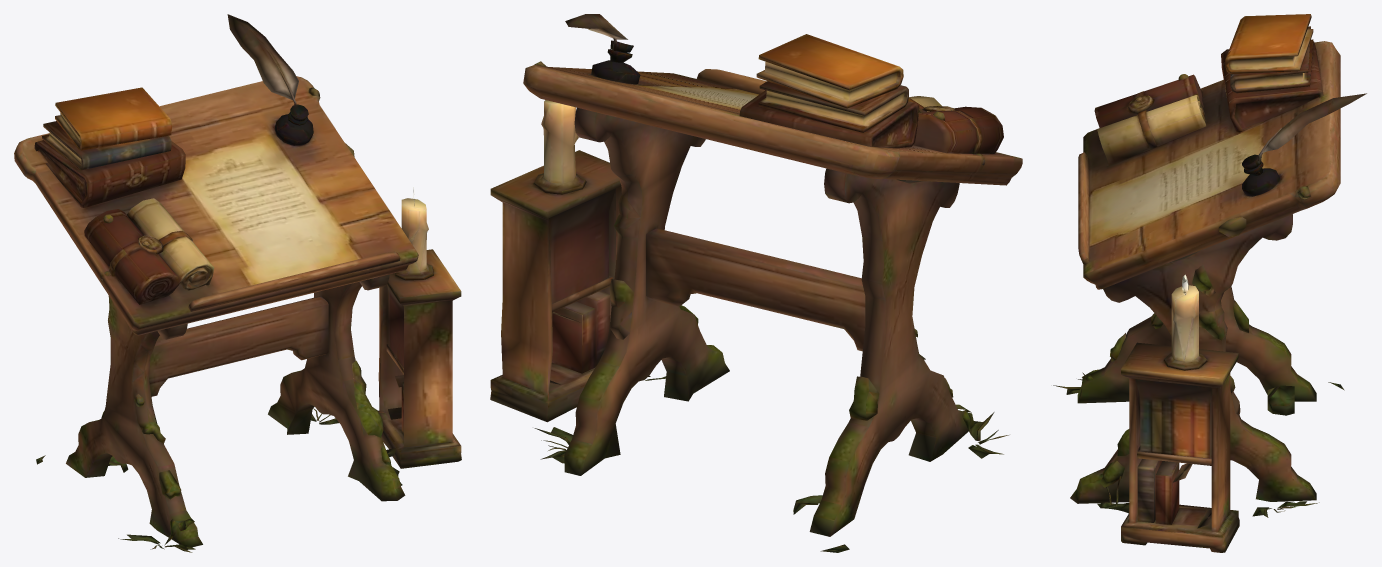
The model's file is station_scribe_desk.glb.
The picture shows the model from 3 angles, left to right: view 1: azimuth 30°, elevation 25°; view 2: azimuth 150°, elevation 25°; view 3: azimuth 270°, elevation 25°; orthographic projection. The views are drawn at different scales.
Visible parts, largest first — view 1: tripo_node_51addbaf-6515-46a6-8d03-ff4e35014d5f; view 2: tripo_node_51addbaf-6515-46a6-8d03-ff4e35014d5f; view 3: tripo_node_51addbaf-6515-46a6-8d03-ff4e35014d5f.
Boxes of the visible parts, x1=… form: tripo_node_51addbaf-6515-46a6-8d03-ff4e35014d5f: x1=14, y1=14, x2=461, y2=552; tripo_node_51addbaf-6515-46a6-8d03-ff4e35014d5f: x1=490, y1=14, x2=1022, y2=552; tripo_node_51addbaf-6515-46a6-8d03-ff4e35014d5f: x1=1053, y1=14, x2=1366, y2=552.
Bounding box in the file's own units: 2.2 × 2.2 × 1.61.
Materials: 1 (1 with a texture image).
